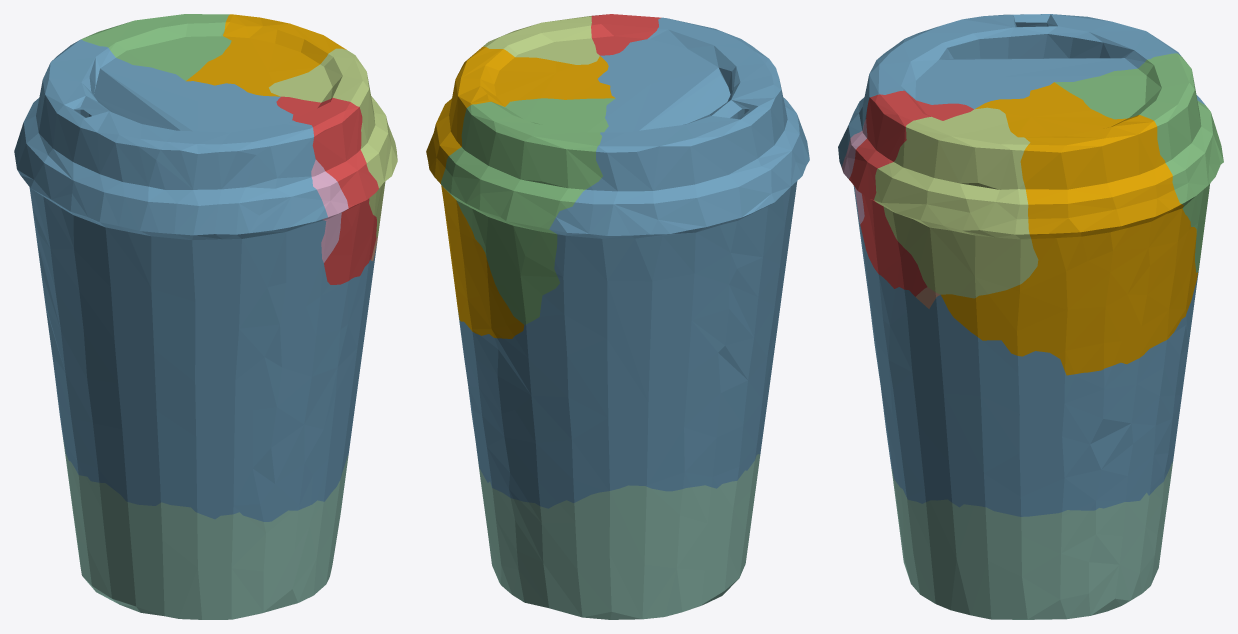
File: fractured_51_8pcs.glb
3 renders of one model, left to right at view 1: azimuth 30°, elevation 25°; view 2: azimuth 150°, elevation 25°; view 3: azimuth 270°, elevation 25°, orthographic.
Visible parts, largest first — view 1: piece_2.obj, piece_4.obj, piece_1.obj, piece_0.obj, piece_3.obj, piece_5.obj, piece_6.obj; view 2: piece_2.obj, piece_4.obj, piece_3.obj, piece_0.obj, piece_5.obj, piece_1.obj; view 3: piece_2.obj, piece_0.obj, piece_4.obj, piece_5.obj, piece_3.obj, piece_1.obj, piece_6.obj.
Part boxes in pixels (x1,y1,x2,y2): piece_2.obj: (14, 39, 376, 521); piece_4.obj: (62, 436, 348, 619); piece_1.obj: (276, 96, 378, 284); piece_0.obj: (186, 14, 346, 96); piece_3.obj: (81, 14, 231, 80); piece_5.obj: (269, 48, 397, 237); piece_6.obj: (311, 159, 348, 262); piece_2.obj: (457, 17, 809, 508); piece_4.obj: (477, 454, 760, 619); piece_3.obj: (441, 98, 615, 324); piece_0.obj: (426, 46, 615, 338); piece_5.obj: (483, 16, 599, 64); piece_1.obj: (591, 14, 661, 55); piece_2.obj: (838, 14, 1205, 516); piece_0.obj: (941, 82, 1197, 375); piece_4.obj: (891, 462, 1172, 619); piece_5.obj: (874, 107, 1038, 298); piece_3.obj: (1054, 53, 1223, 272); piece_1.obj: (849, 90, 973, 296); piece_6.obj: (841, 119, 867, 224).
Size of the model in its own units: 0.7103 by 1 by 0.7115.
